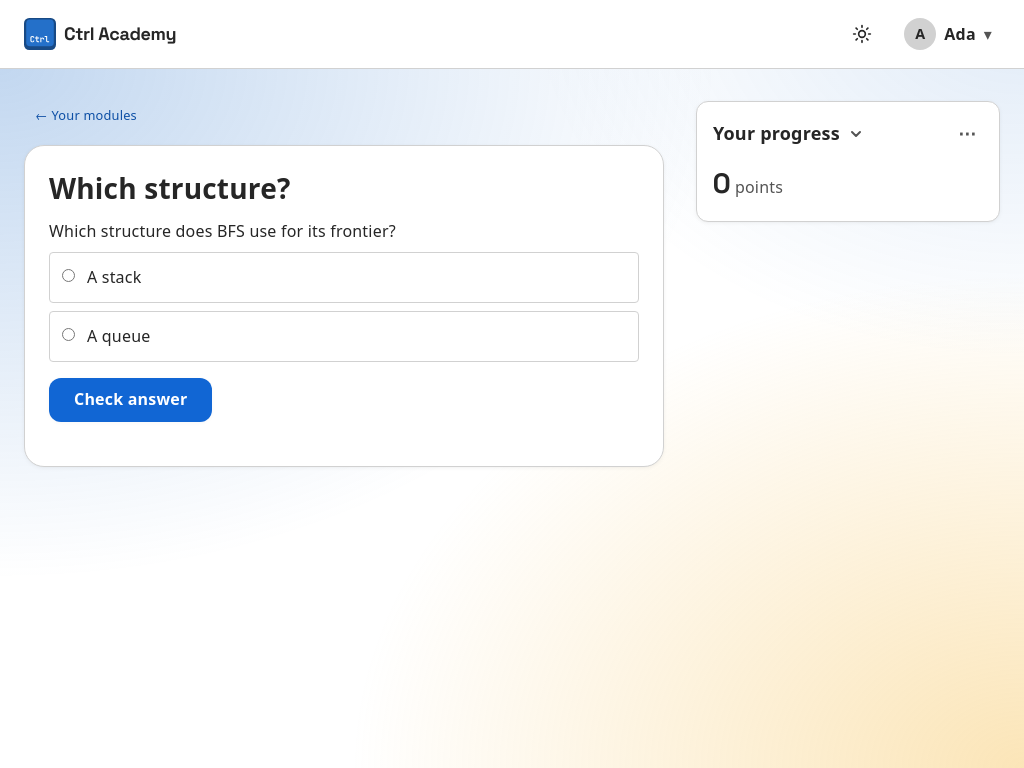
Test: the activity page › runs a multiple-choice activity end to end and shows why the answer is wrong
The width and height of the screenshot is (1024, 768).
Step 1. Click the radio button labelled "A stack" → (68, 276), box [62,269,75,282]
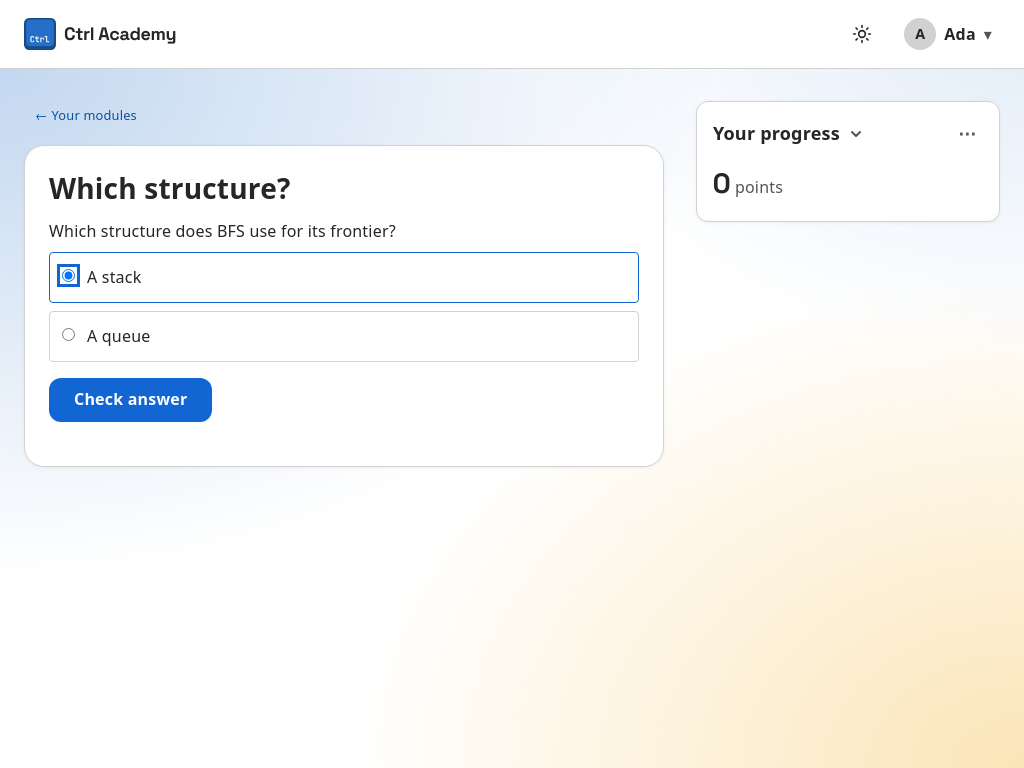
Step 2. Click the button "Check answer" → (131, 400), box [49,378,212,422]
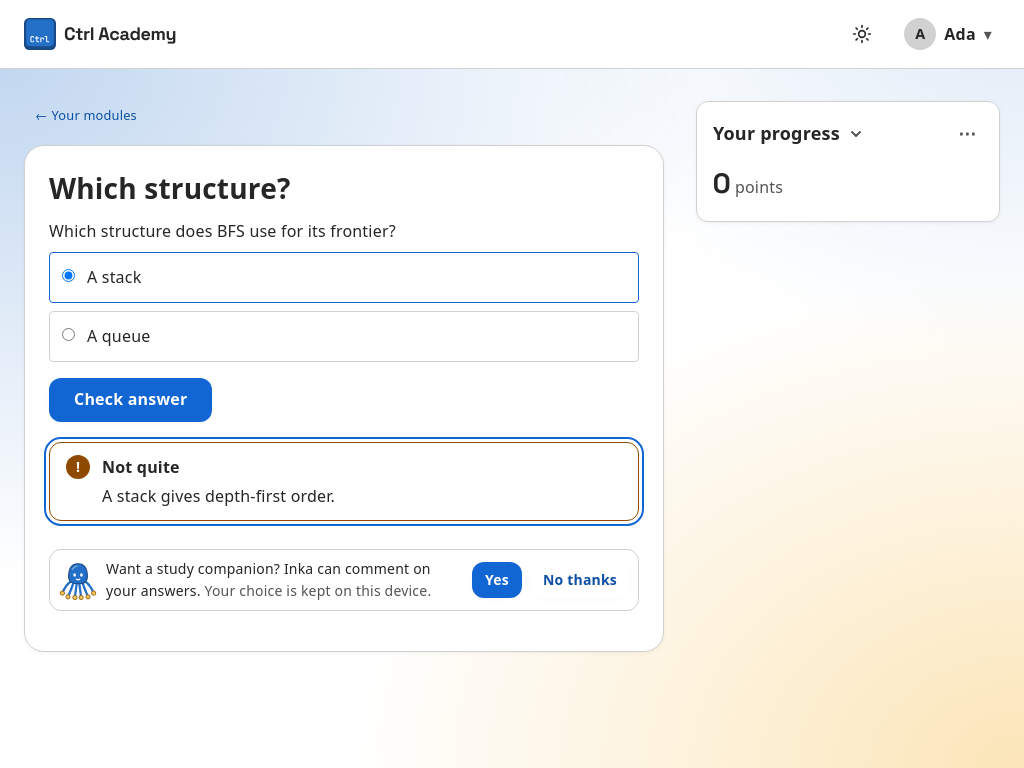
Expected: the text "A stack gives depth-first order." is shown, [102,484,335,508]
